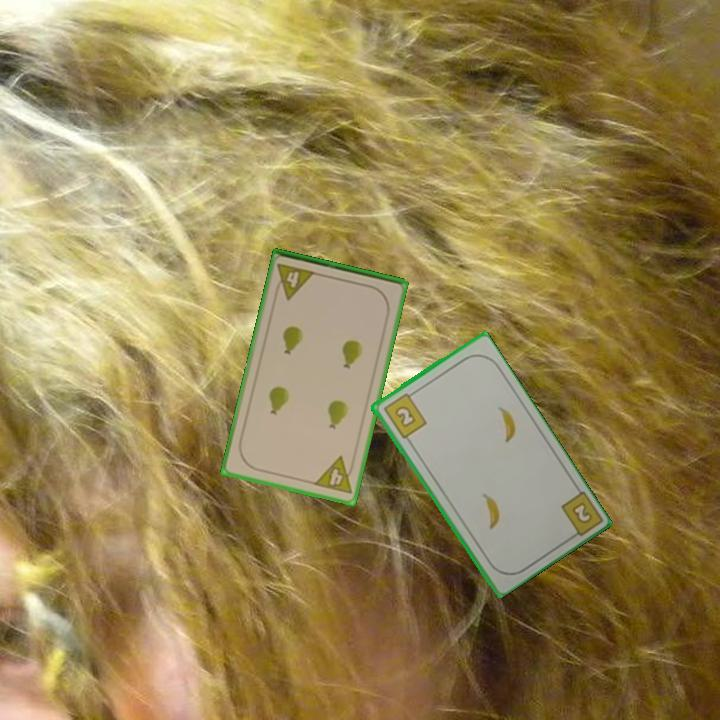2b: (380, 388, 429, 441), (557, 487, 603, 543)
4p: (310, 453, 358, 497), (271, 260, 318, 302)
